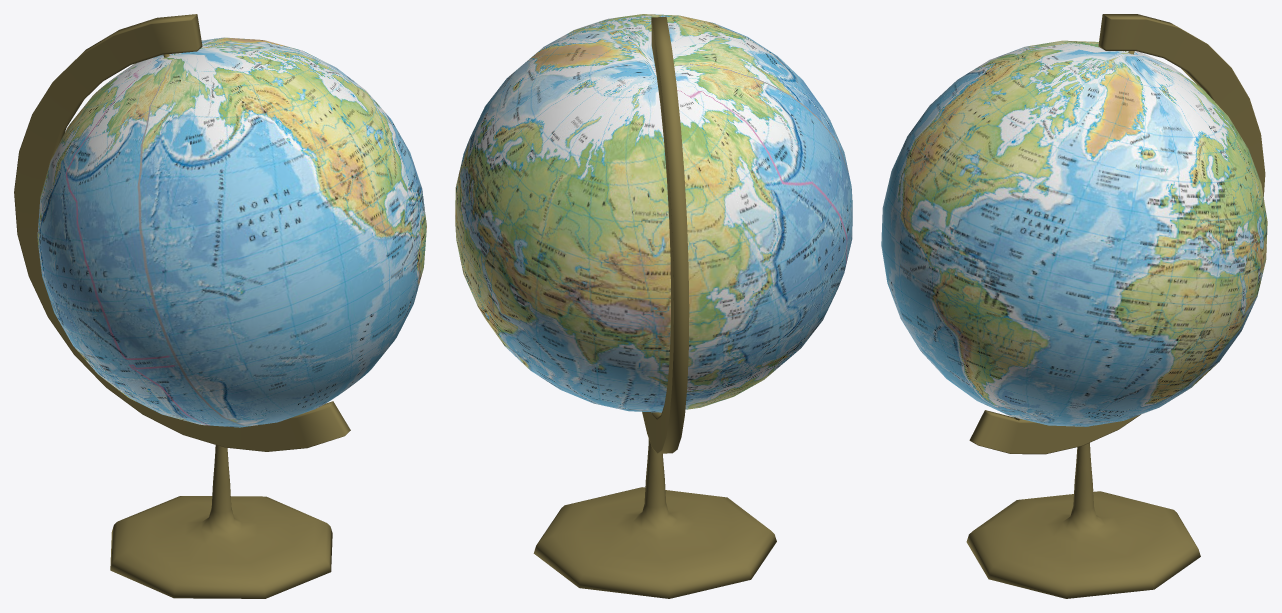
3 renders of one model, left to right at view 1: azimuth 30°, elevation 25°; view 2: azimuth 150°, elevation 25°; view 3: azimuth 270°, elevation 25°, orthographic. The views are drawn at different scales.
Visible parts, largest first — view 1: Cylinder.012; view 2: Cylinder.012; view 3: Cylinder.012.
Boxes of the visible parts, box(x1,y1,x2,y2) form: Cylinder.012: box(14, 14, 426, 598); Cylinder.012: box(455, 14, 852, 598); Cylinder.012: box(881, 14, 1267, 598).
Size of the model in its own units: 2936 by 4407 by 2936.
2 materials, 1 textured.
